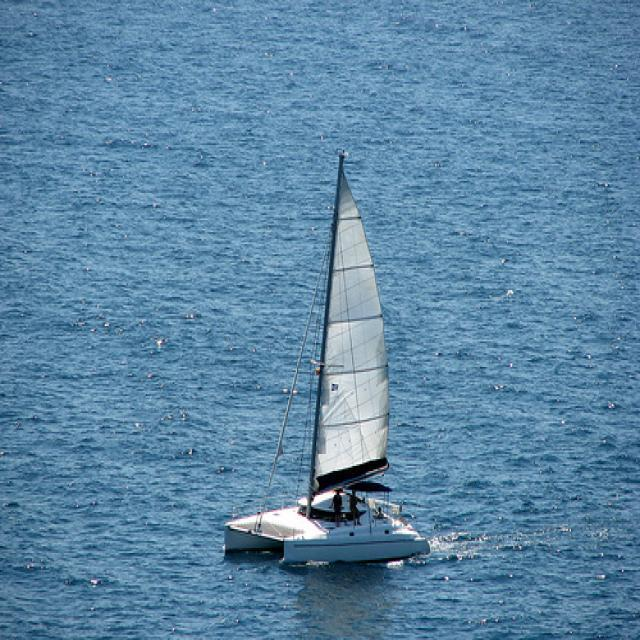Ship: (206, 148, 434, 573)
